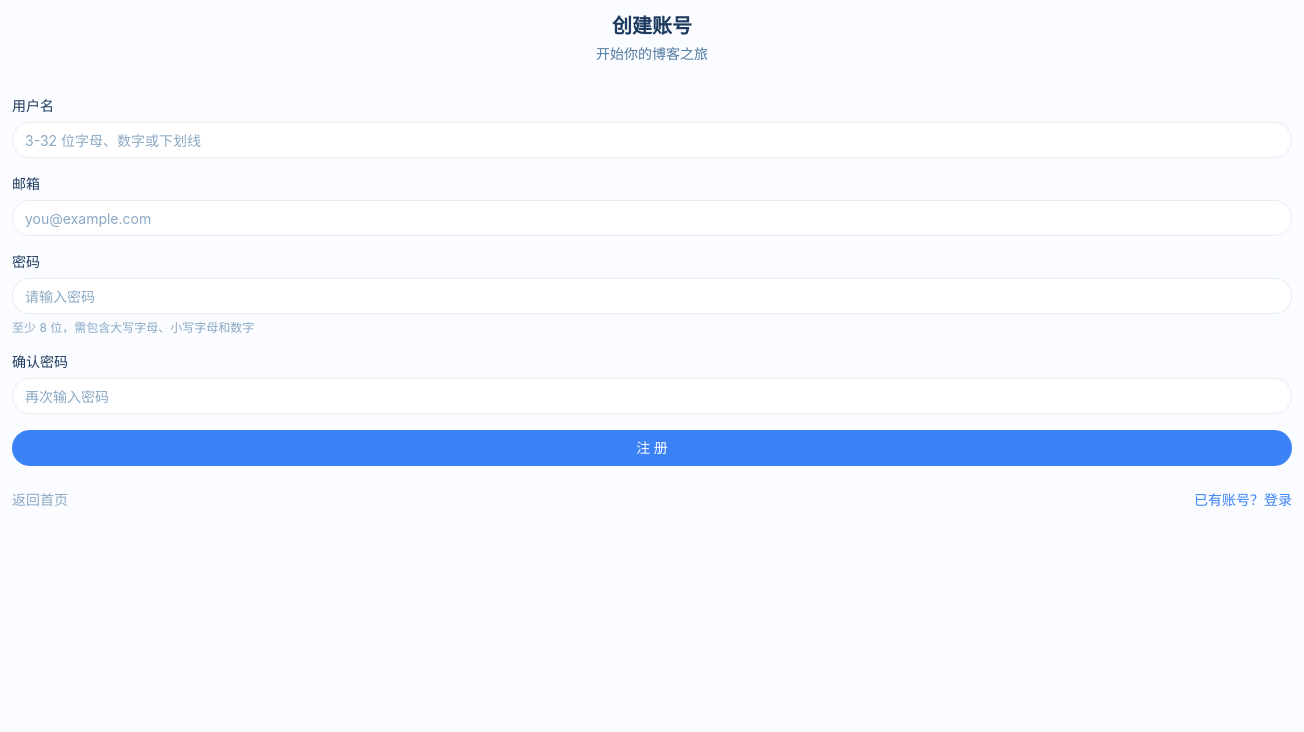
Scenario: RegisterPage › 用户名含非法字符报错
Type "bad name!" into the field labelled "用户名". click: (652, 140)
box: [12,122,1292,158]
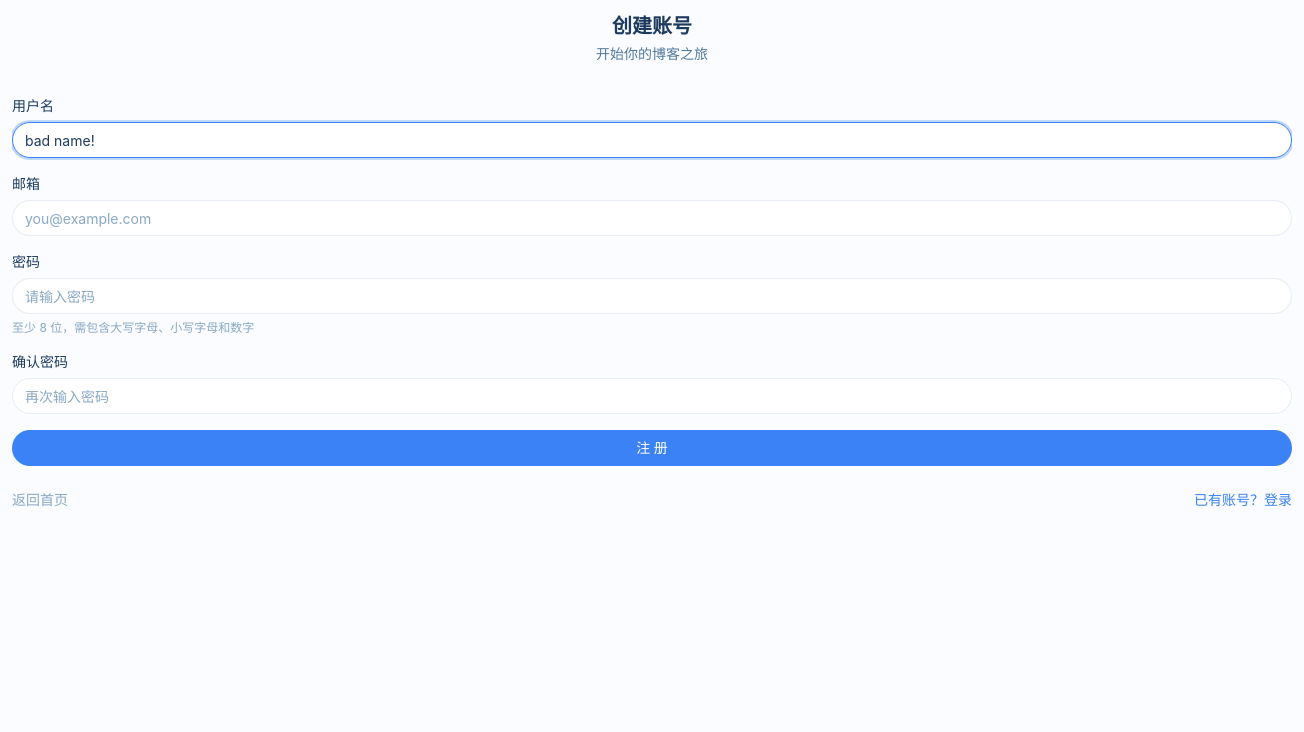
Click the button "注 册". click: (652, 448)
box: [12,430,1292,466]
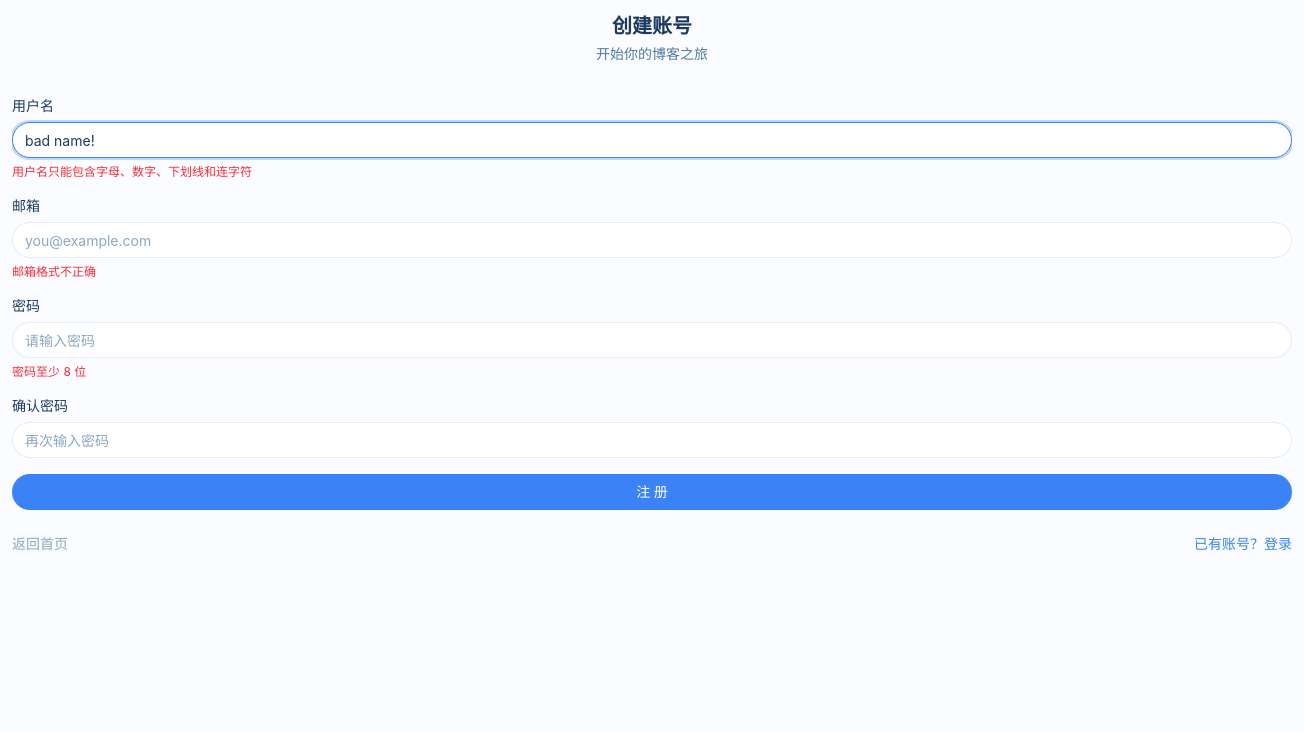
Result: the text "用户名只能包含字母、数字、下划线和连字符" is shown at [12,164,252,179]
